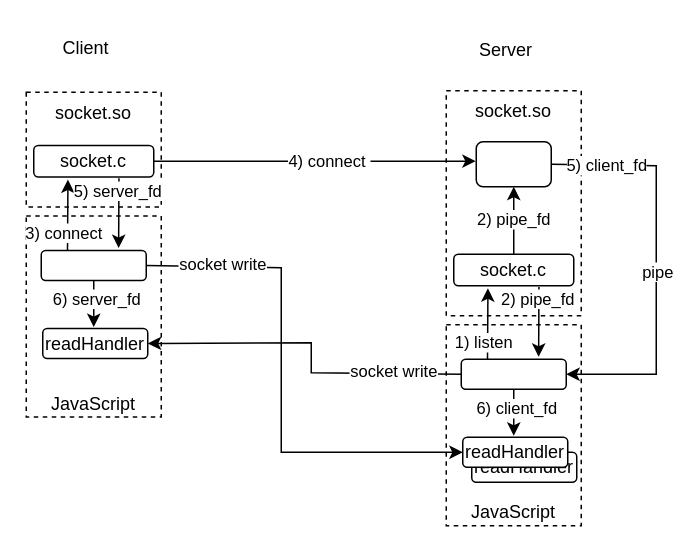
Some shapes in this 699 by 552 pixel diagram are drawn without their labels. Each missing label, with the centre of its shape:
accept thread.c: the point at 513,163
client.js: the point at 93,264
server.js: the point at 513,373
